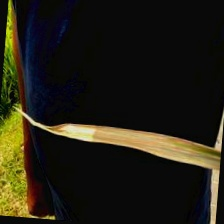Leaf_Blast: (27, 130, 218, 155)
